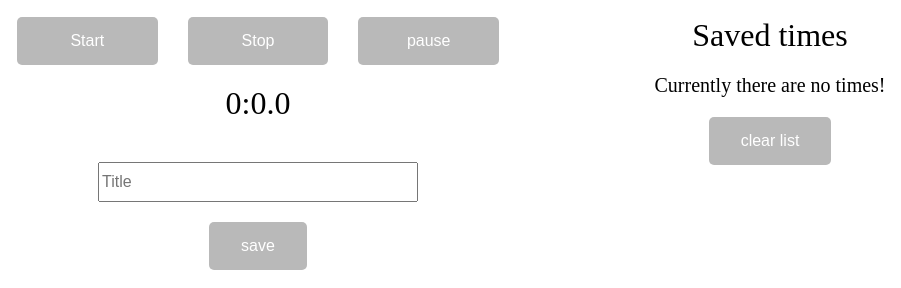
it: Save times
This screenshot has width=901, height=288.
Click the button "Start". click: x=87, y=41
box: [17,17,158,65]
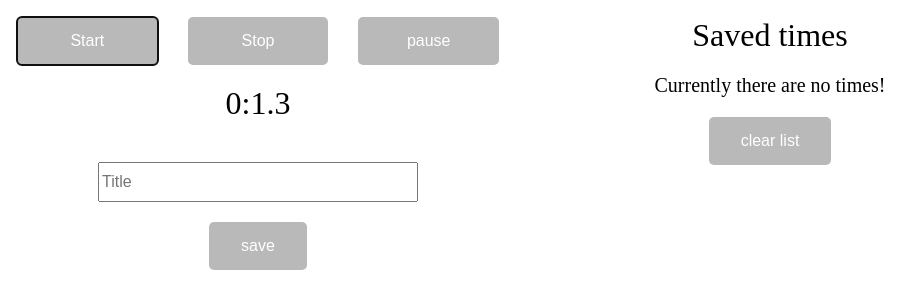
Expected: the button "save" is shown, [209,222,307,270]
// kirjoitetaan ja painetaan nappia
Type "test time" into the field with placeholder "Title". click: x=258, y=182
box: [98,162,418,202]
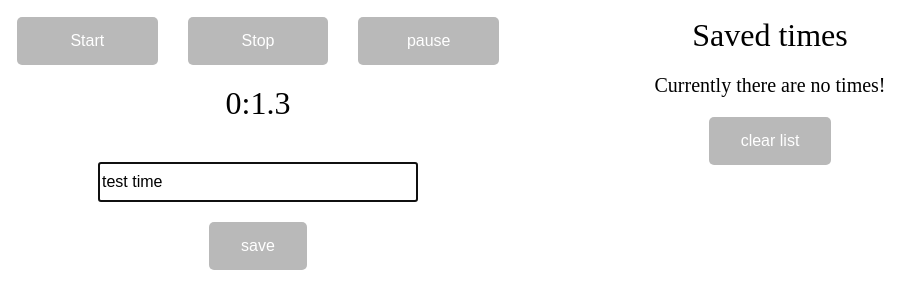
Click the button "save". click: x=258, y=246
box: [209,222,307,270]
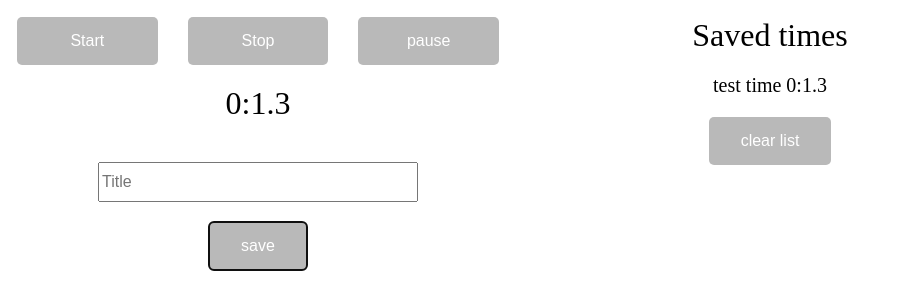
Now the text "test time 0:1.3" is shown, box [713,74,827,96]
